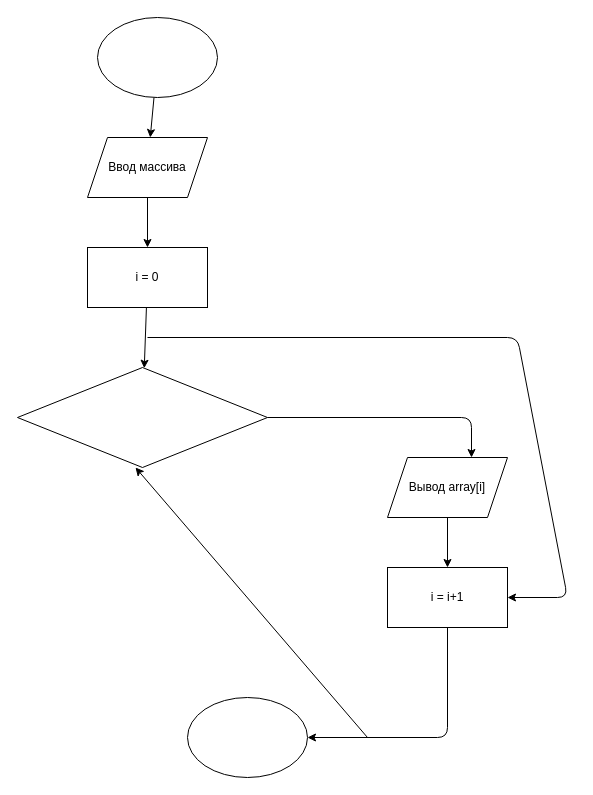
Some shapes in this 593 by 795 pixel diagram are drawn without their labels. The centre of each missing label's shape, as x and y in pixels:
"i < Длинна массива?" belongs at [142,417].
"Начало" belongs at [157,57].
